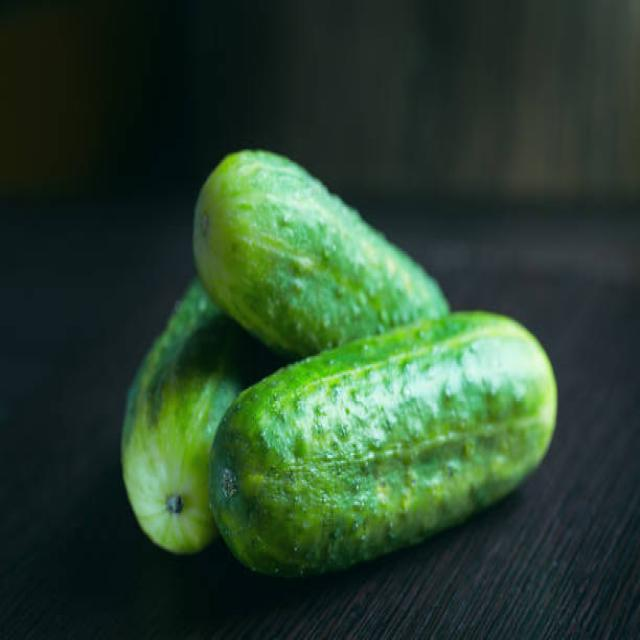cucumber: (208, 312, 558, 574), (194, 149, 450, 358), (121, 270, 272, 551)
